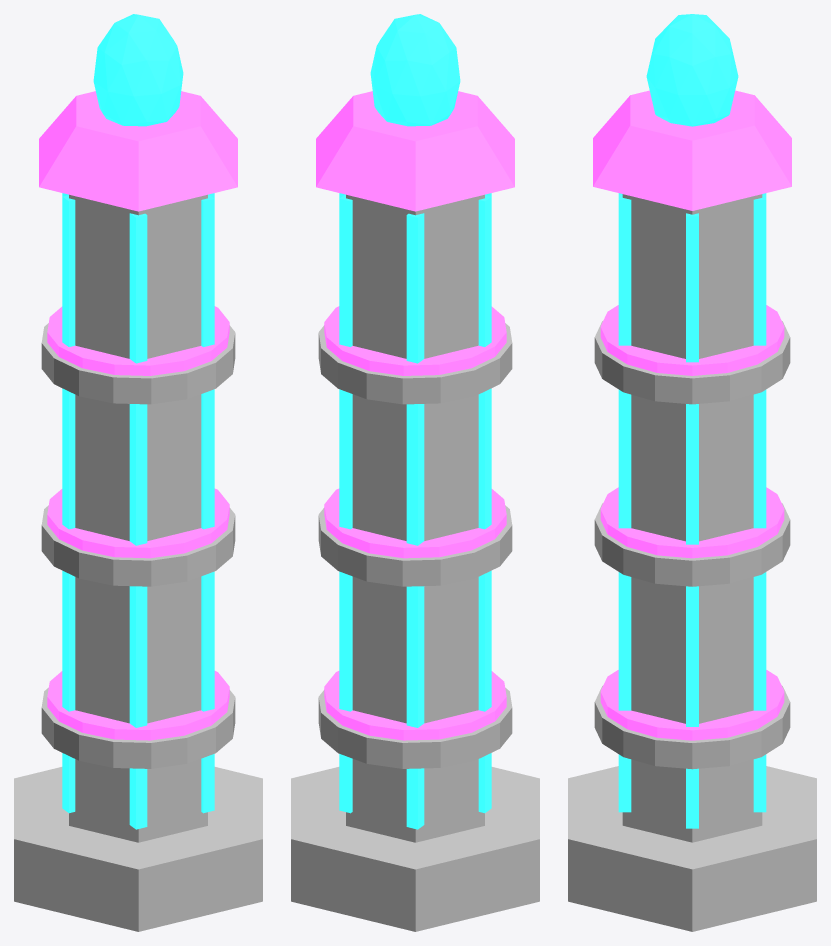
The picture shows the model from 3 angles, left to right: view 1: azimuth 30°, elevation 25°; view 2: azimuth 150°, elevation 25°; view 3: azimuth 270°, elevation 25°; orthographic projection.
Parts seen in each view (by area): view 1: Neon_NeonPillar_Showcase; view 2: Neon_NeonPillar_Showcase; view 3: Neon_NeonPillar_Showcase.
Part boxes in pixels (bbox=[...]): Neon_NeonPillar_Showcase: bbox=[14, 14, 262, 931]; Neon_NeonPillar_Showcase: bbox=[291, 14, 539, 931]; Neon_NeonPillar_Showcase: bbox=[568, 14, 816, 931].
Bounding box in the file's own units: 1 × 3.29 × 0.866.
